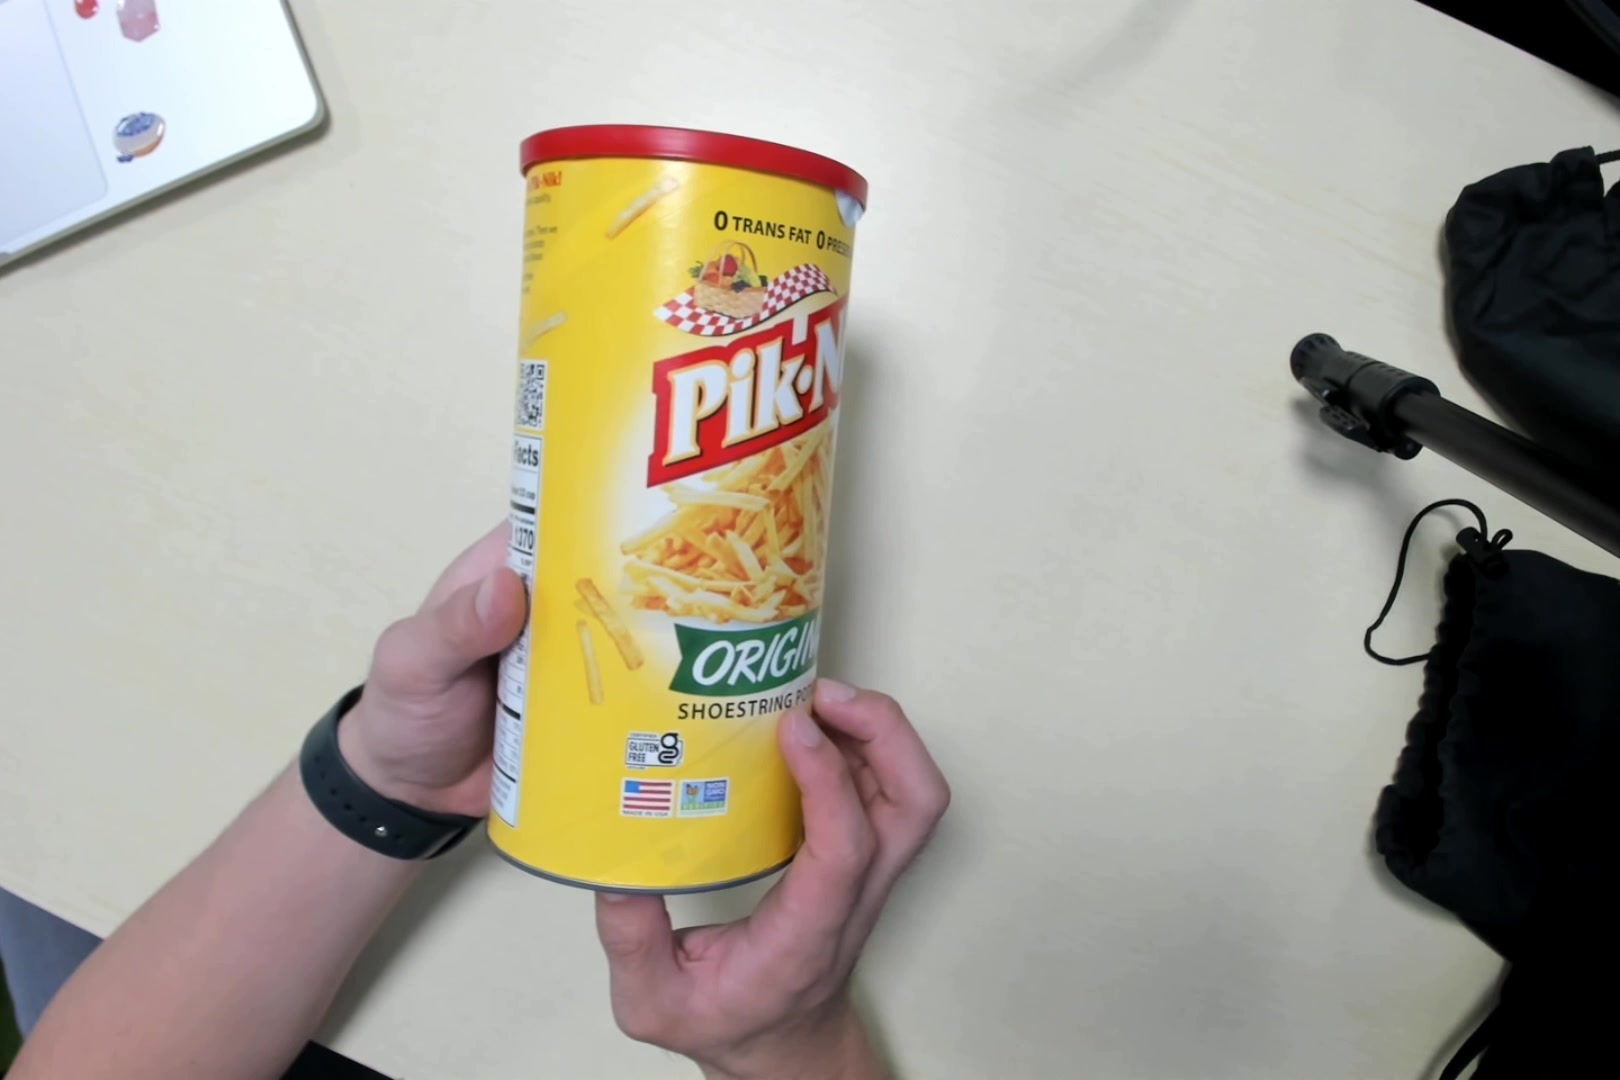PotatoChipsKeropok_200-299g_NonHalal_NonHealthy: (493, 127, 859, 884)
